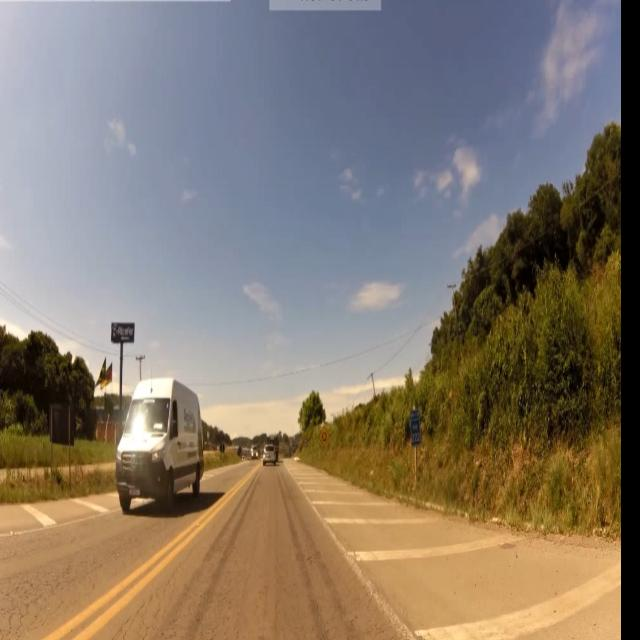RQ: (411, 408, 422, 448)
